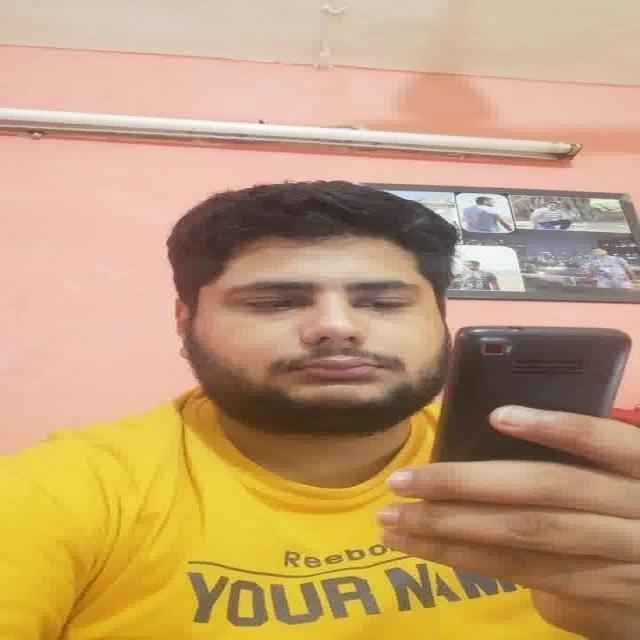Phone: (432, 322, 634, 457)
